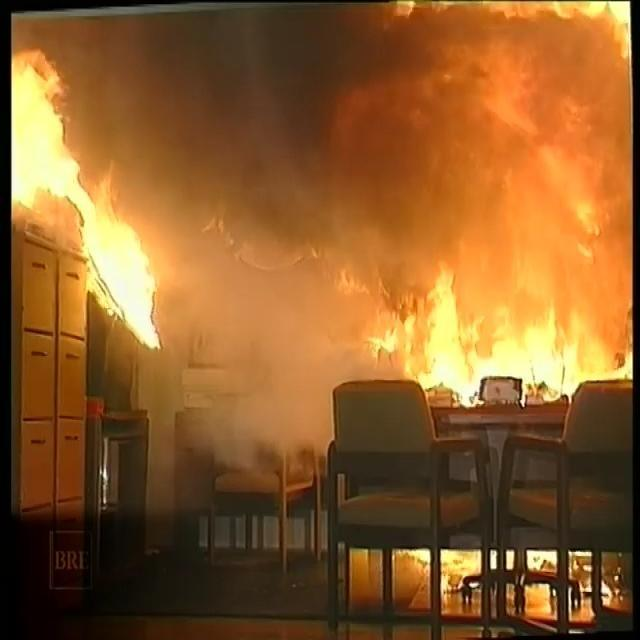Fire: (15, 6, 629, 404)
